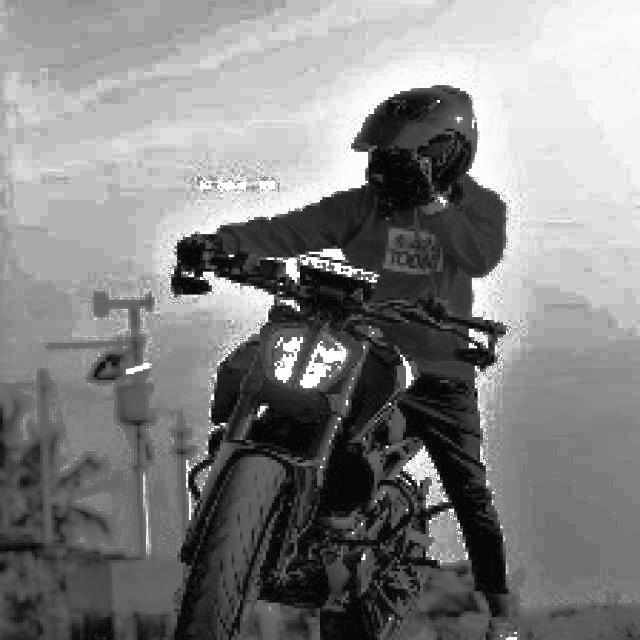Bike: (183, 242, 450, 640)
